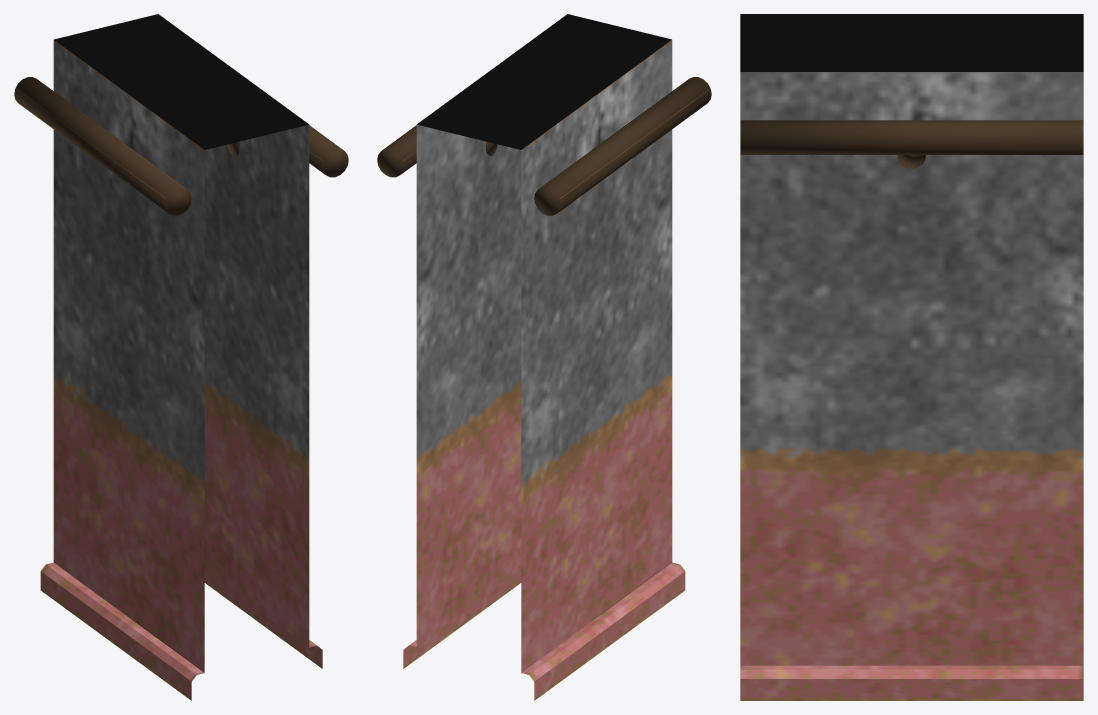
File: wall_with_pole.fbx
The picture shows the model from 3 angles, left to right: view 1: azimuth 30°, elevation 25°; view 2: azimuth 150°, elevation 25°; view 3: azimuth 270°, elevation 25°; orthographic projection. The views are drawn at different scales.
Parts seen in each view (by area): view 1: Bake; view 2: Bake; view 3: Bake.
Boxes of the visible parts, x1=… form: Bake: x1=14, y1=14, x2=348, y2=700; Bake: x1=377, y1=14, x2=711, y2=700; Bake: x1=740, y1=14, x2=1083, y2=700.
Size of the model in its own units: 1 by 2 by 0.7018.
1 material, 1 textured.
